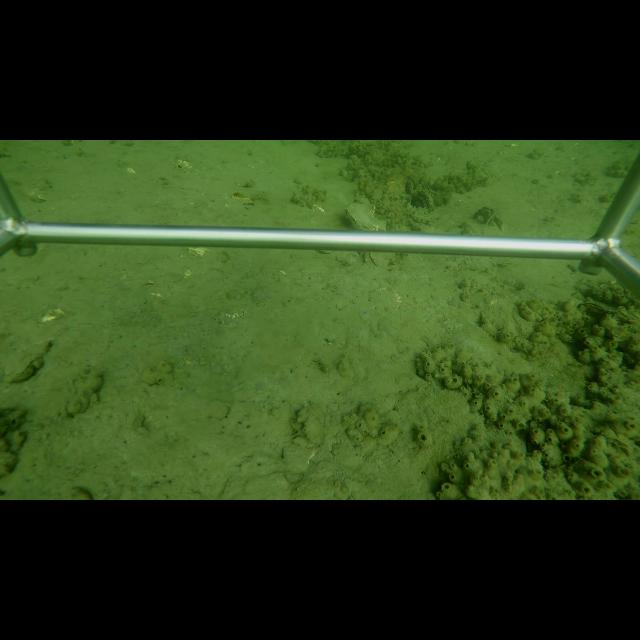Oyster-Closed: (4, 340, 55, 386), (573, 298, 637, 326), (342, 197, 389, 231)
Oyster-Open: (471, 205, 506, 234)
